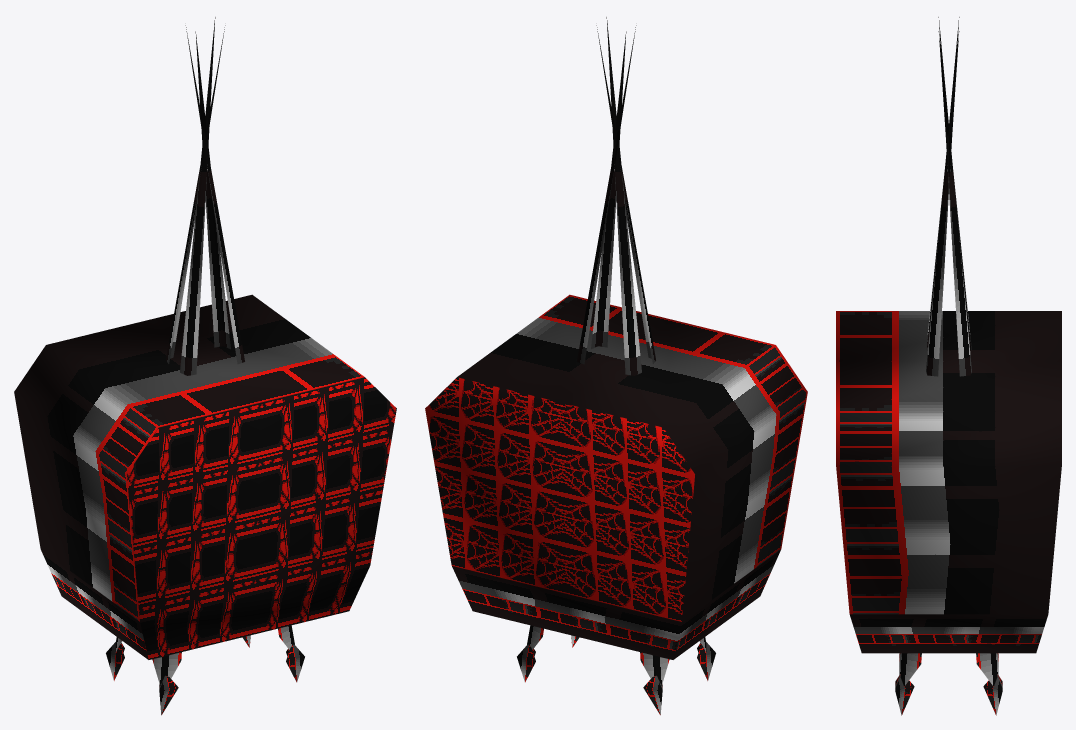
File: 3502IMEL01_19.gltf
3 views of the same model, side by side, from view 1: azimuth 30°, elevation 25°; view 2: azimuth 150°, elevation 25°; view 3: azimuth 270°, elevation 25° (orthographic).
Visible parts, largest first — view 1: 3502IMEL01_19; view 2: 3502IMEL01_19; view 3: 3502IMEL01_19.
Boxes of the visible parts, x1,y1,x2,y2 form: 3502IMEL01_19: (14,17,396,715); 3502IMEL01_19: (425,17,807,715); 3502IMEL01_19: (836,17,1061,715).
Bounding box in the file's own units: 0.8496 × 1.99 × 0.6143.
Materials: 4 (4 with a texture image).
